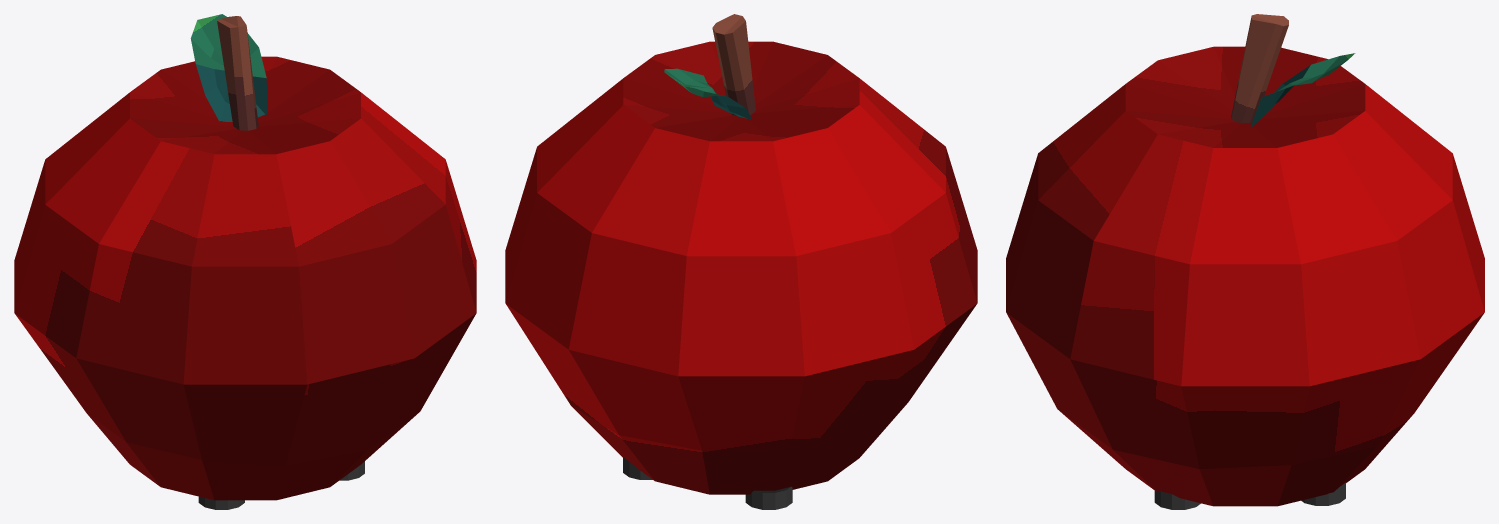
Rendered from Apple Rocket.gltf.
3 renders of one model, left to right at view 1: azimuth 30°, elevation 25°; view 2: azimuth 150°, elevation 25°; view 3: azimuth 270°, elevation 25°, orthographic. The views are drawn at different scales.
Visible parts, largest first — view 1: body, leaf, stem; view 2: body, stem, leaf, thruster1; view 3: body, stem, leaf, thruster3.
Part boxes in pixels (bbox=[...]): body: bbox=[14, 56, 476, 500]; leaf: bbox=[190, 14, 267, 121]; stem: bbox=[217, 16, 258, 130]; body: bbox=[505, 41, 977, 494]; stem: bbox=[712, 14, 755, 115]; leaf: bbox=[664, 68, 751, 119]; thruster1: bbox=[745, 486, 792, 509]; body: bbox=[1006, 46, 1484, 506]; stem: bbox=[1231, 14, 1288, 122]; leaf: bbox=[1250, 53, 1355, 126]; thruster3: bbox=[1154, 491, 1200, 509].
Bounding box in the file's own units: 0.3125 × 0.3241 × 0.3125.
Materials: 1 (1 with a texture image).
